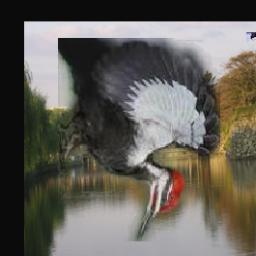Crow: (245, 33, 256, 96)
Woodpecker: (58, 39, 220, 242)
